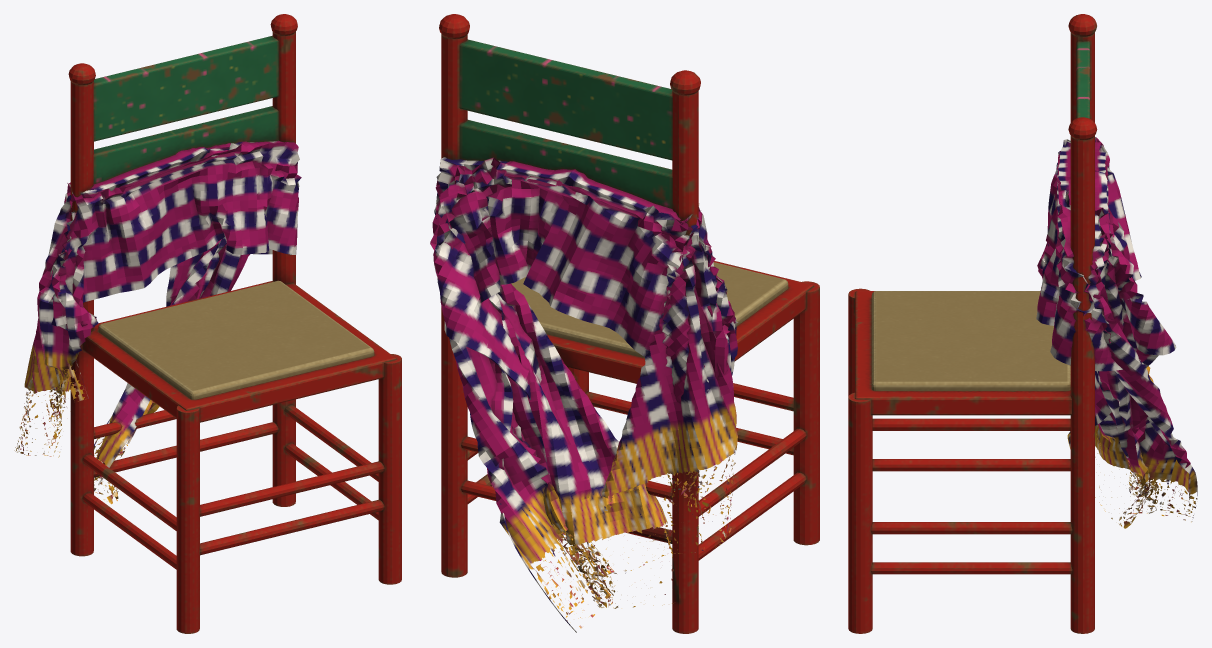
File: w6_rebozo_chair.glb
The picture shows the model from 3 angles, left to right: view 1: azimuth 30°, elevation 25°; view 2: azimuth 150°, elevation 25°; view 3: azimuth 270°, elevation 25°; orthographic projection. The views are drawn at different scales.
Visible parts, largest first — view 1: w6_rebozo_chair; view 2: w6_rebozo_chair; view 3: w6_rebozo_chair.
Part boxes in pixels (x1=…): w6_rebozo_chair: x1=14, y1=14, x2=401, y2=633; w6_rebozo_chair: x1=430, y1=14, x2=819, y2=633; w6_rebozo_chair: x1=848, y1=14, x2=1197, y2=633.
Size of the model in its own units: 0.5742 by 1.01 by 0.6286.
Materials: 1 (1 with a texture image).
